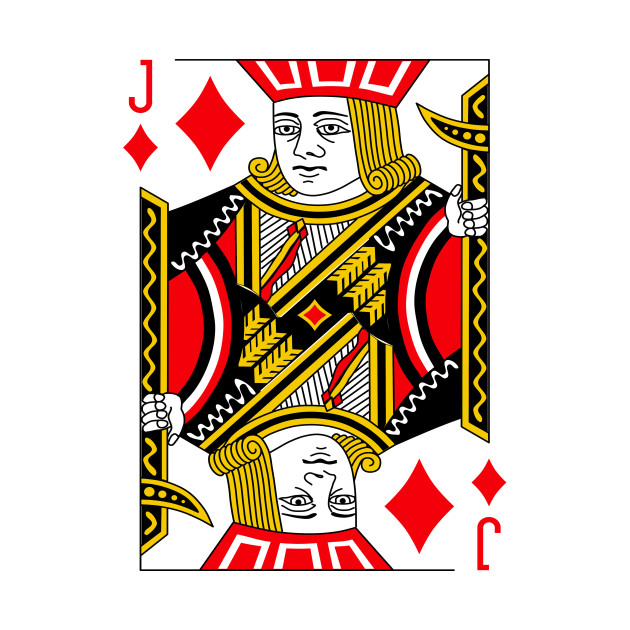jack of diamonds: (115, 41, 526, 590)
